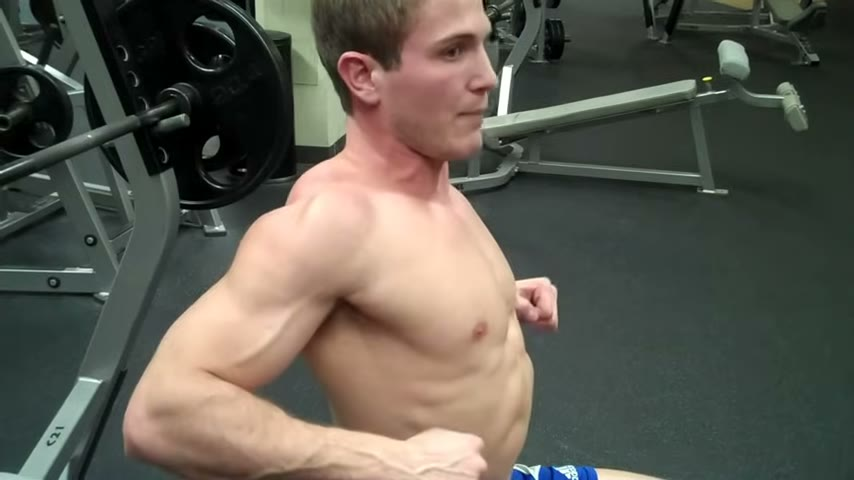barbell_plate_side: (650, 10, 820, 451), (168, 0, 324, 474), (676, 14, 813, 345)
